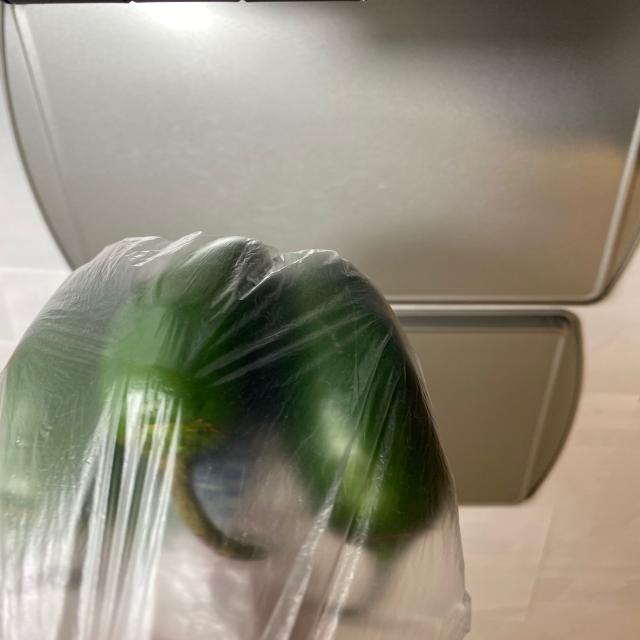chilli: (0, 233, 450, 626)
